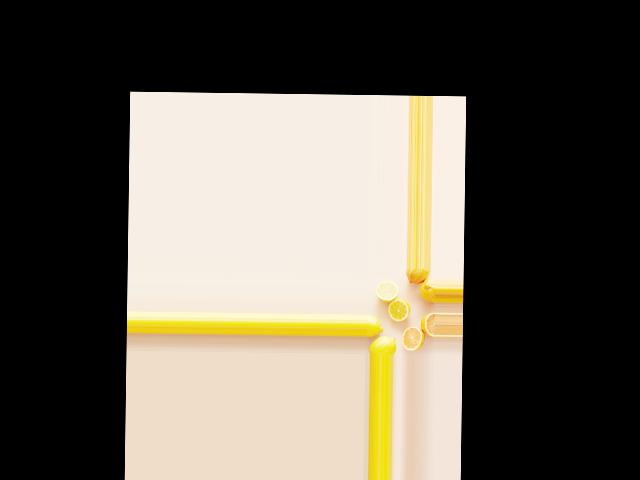lemon: (404, 268, 432, 287)
